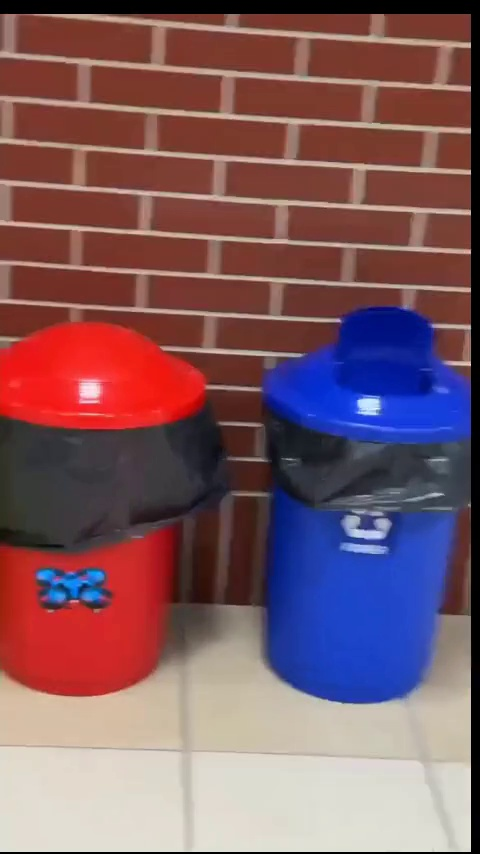drone: (30, 570, 108, 613)
